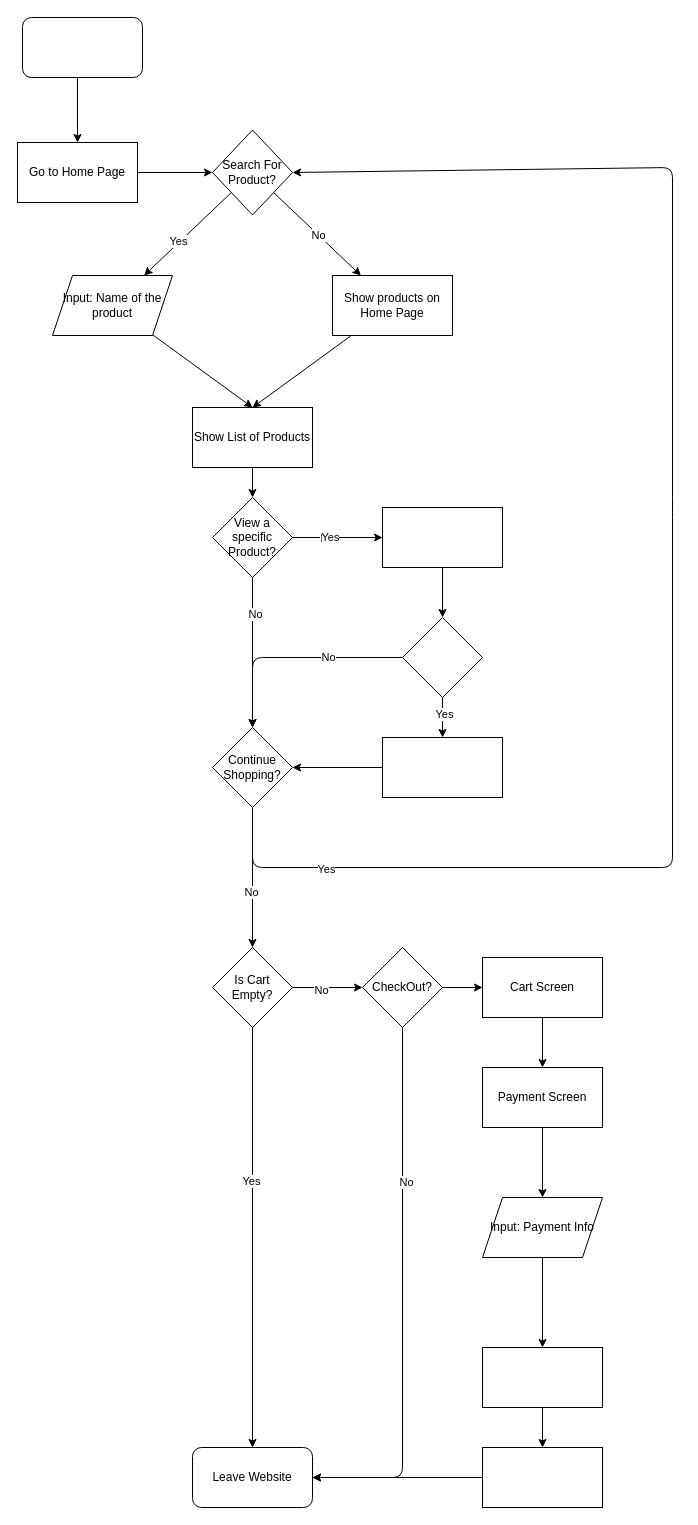
Some shapes in this 698 by 1525 pixel diagram are drawn without their labels. The shapes that lost their labels are listed below. From the top down, each one's centre as x and y in pixels, then its label:
At (x=82, y=47): "Enter Website".
At (x=442, y=537): "Open Product Web Page".
At (x=442, y=657): "Add Product to Cart?".
At (x=442, y=767): "Alert the prodct is added to cart".
At (x=542, y=1377): "Send Confirmation Email".
At (x=542, y=1477): "Show Order Confirmation Screen".
